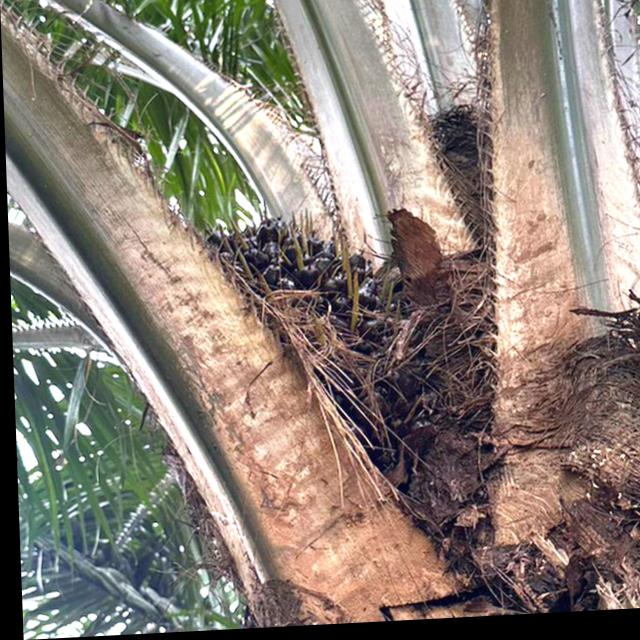ripe: (192, 183, 386, 448)
